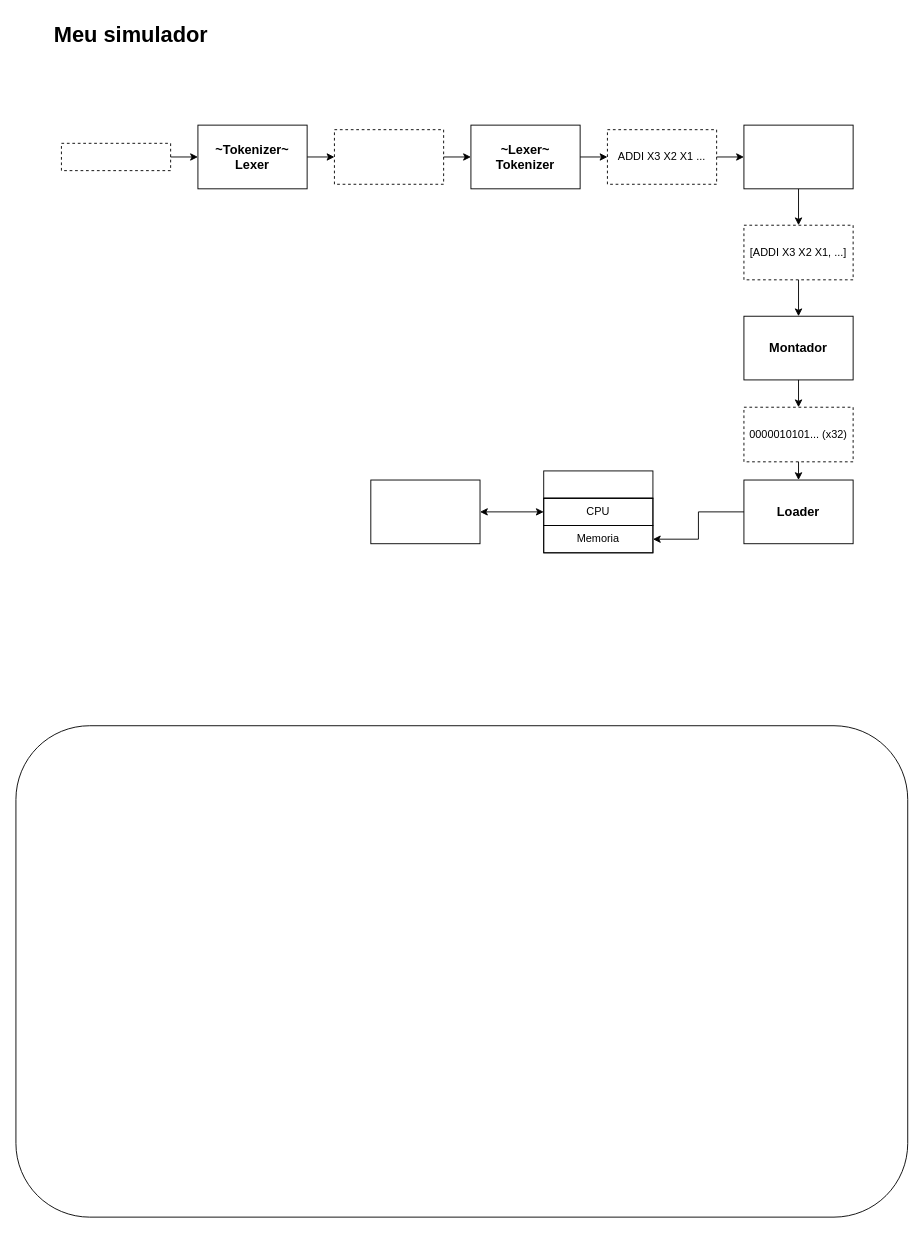
The diagram is 924 pixels wide and 1233 high, and some of its shapes have lost their labels. The centre of each missing label's shape, as x and y in pixels:
["addi", ",", "x3", ",", "x2", ",", "x1"]: point 389,156
addi x3, x2, x1: point 116,156
Executor: point 425,511
Machine: point 598,484
Parser: point 798,156
